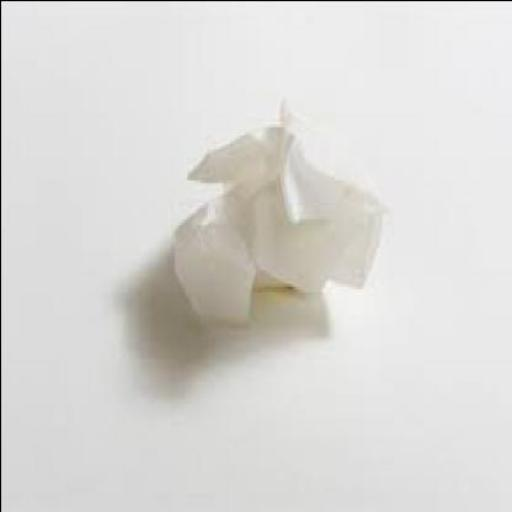paper: (171, 98, 385, 319)
